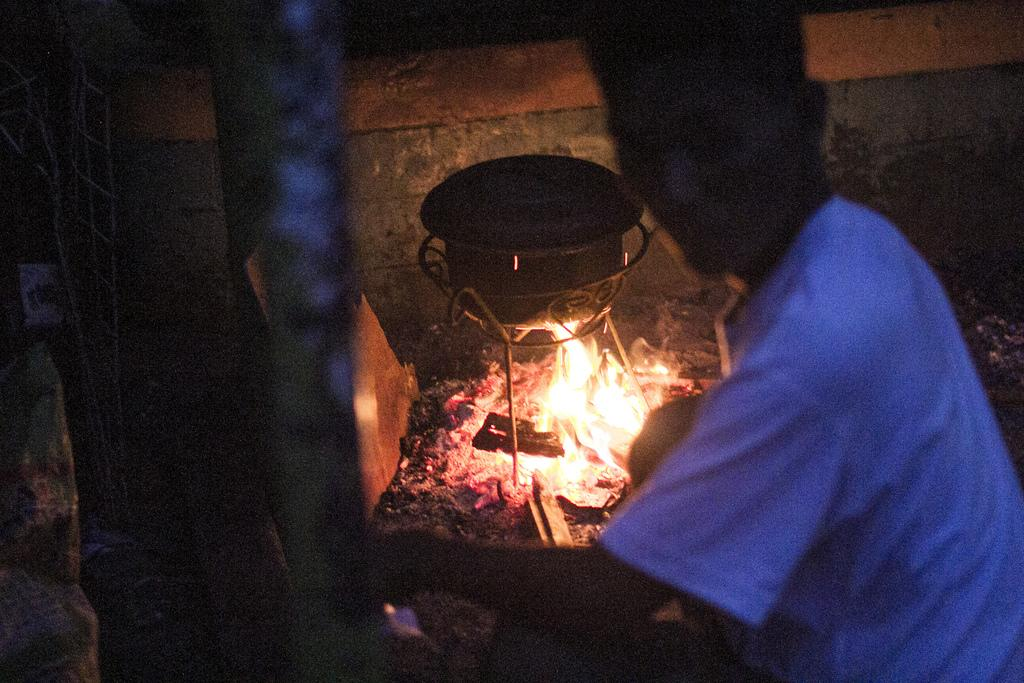fire: (558, 365, 630, 480)
